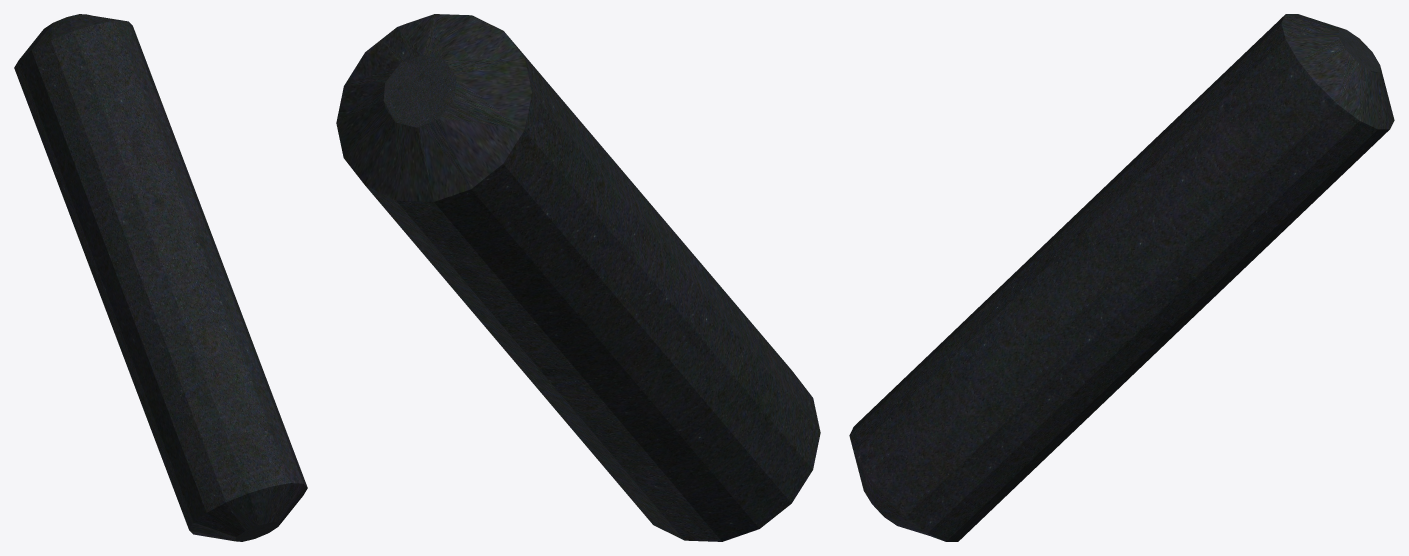
The model's file is Extractor_Pin.dae.
The picture shows the model from 3 angles, left to right: view 1: azimuth 30°, elevation 25°; view 2: azimuth 150°, elevation 25°; view 3: azimuth 270°, elevation 25°; orthographic projection. The views are drawn at different scales.
Parts seen in each view (by area): view 1: Extractor_Pin; view 2: Extractor_Pin; view 3: Extractor_Pin.
Boxes of the visible parts, bbox=[...] form: Extractor_Pin: bbox=[14, 14, 307, 541]; Extractor_Pin: bbox=[336, 14, 820, 541]; Extractor_Pin: bbox=[849, 14, 1394, 541].
Bounding box in the file's own units: 0.00248 × 0.00865 × 0.00893.
1 material, 1 textured.
